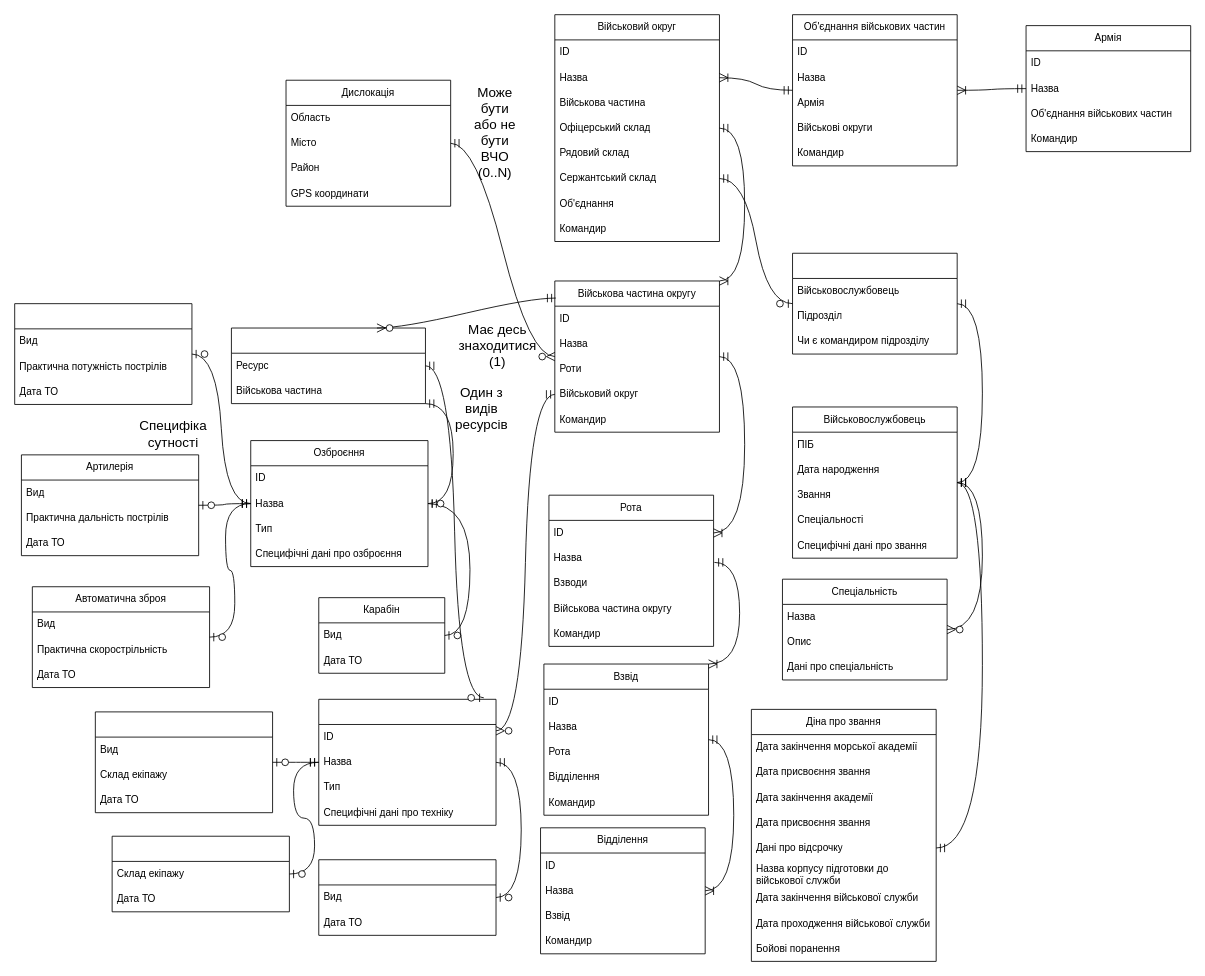
Image size: 1205x976. Some labels were removed from this diagram. The box of each missing label's shape, as (x1, y1, x2, y2) in pixels:
Автотранспорт: (318, 859, 496, 935)
БМП: (111, 835, 289, 912)
Належність бойових ресурів: (231, 327, 425, 404)
Належність військовослужбовся: (792, 252, 957, 354)
Ракетне озброєння: (14, 303, 192, 404)
Техніка: (318, 698, 496, 825)
Тягач: (94, 711, 273, 813)
